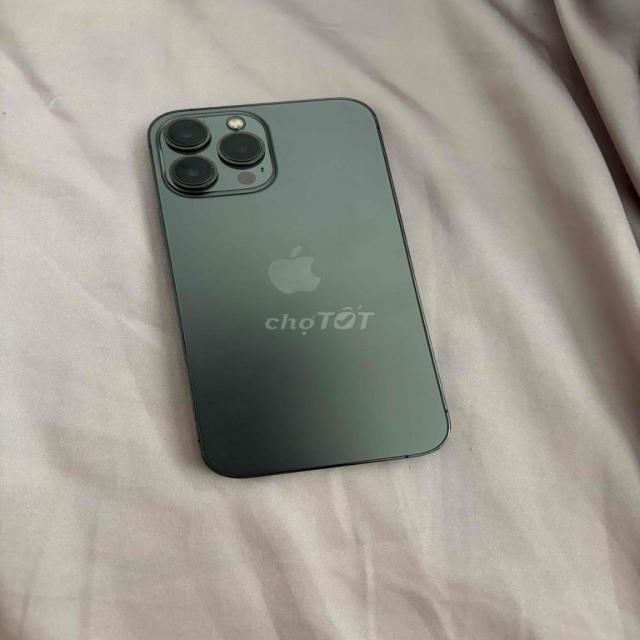gen_12_13: (143, 98, 456, 479)
